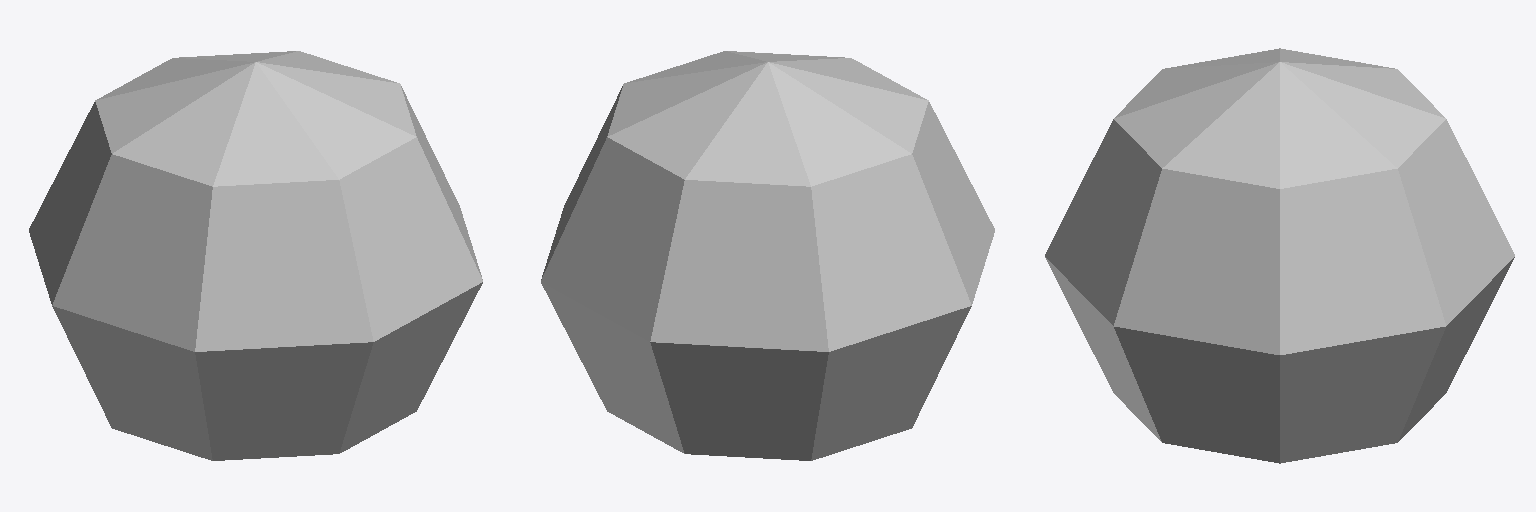
The model's file is player.obj.
The picture shows the model from 3 angles: view 1: azimuth 30°, elevation 25°; view 2: azimuth 150°, elevation 25°; view 3: azimuth 270°, elevation 25°; orthographic projection.
Parts seen in each view (by area): view 1: Sphere_Sphere.001; view 2: Sphere_Sphere.001; view 3: Sphere_Sphere.001.
Part boxes in pixels (x1,y1,x2,y2): Sphere_Sphere.001: (29,51,482,460); Sphere_Sphere.001: (541,51,994,460); Sphere_Sphere.001: (1045,48,1514,463).
Bounding box in the file's own units: 2.2 × 2 × 2.2.